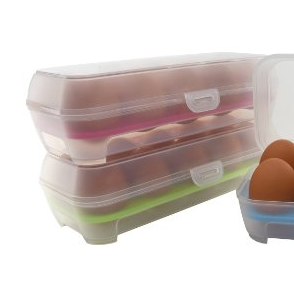egg: (248, 139, 294, 201)
